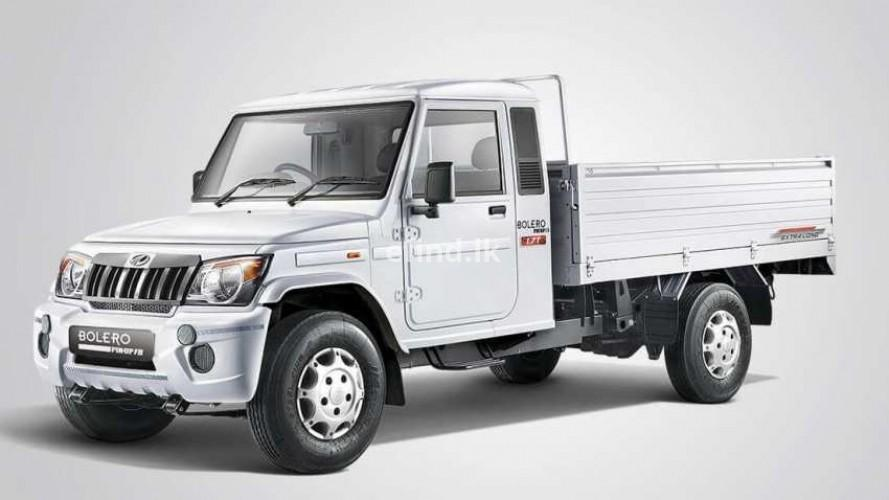truck: (33, 72, 834, 474)
